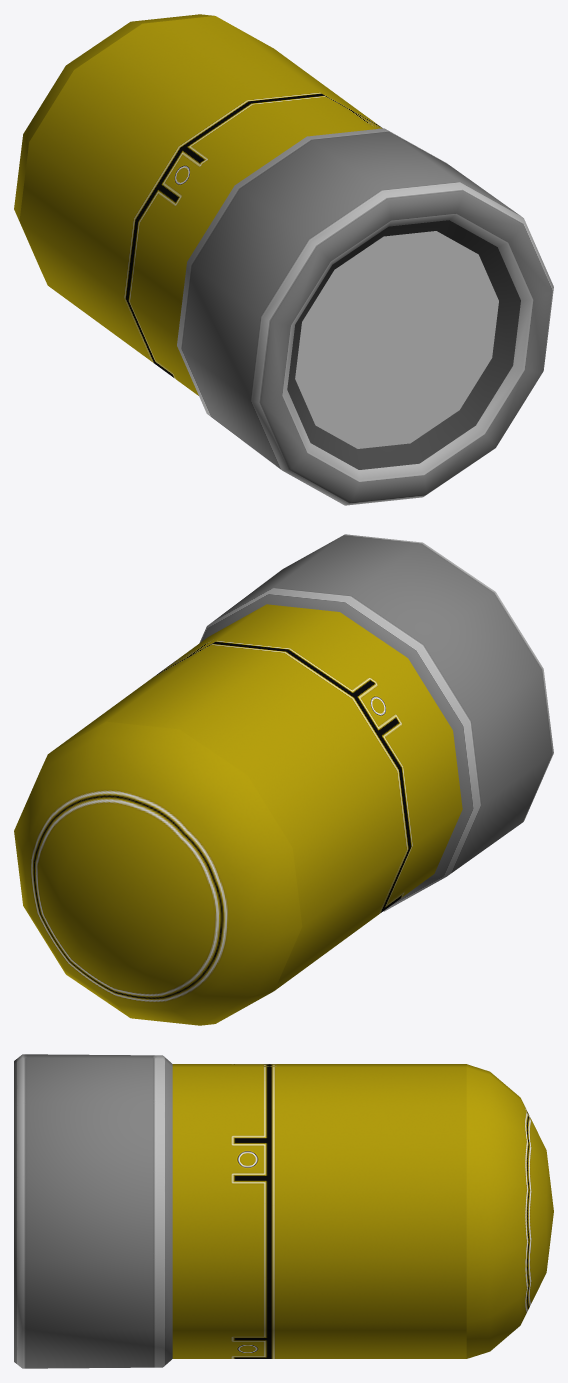
Rendered from TR_eyeC.fbx.
3 renders of one model, top to bottom at view 1: azimuth 30°, elevation 25°; view 2: azimuth 150°, elevation 25°; view 3: azimuth 270°, elevation 25°, orthographic. The views are drawn at different scales.
Visible parts, largest first — view 1: TR_eyeC; view 2: TR_eyeC; view 3: TR_eyeC.
Boxes of the visible parts, x1=… form: TR_eyeC: x1=14, y1=14, x2=553, y2=505; TR_eyeC: x1=14, y1=534, x2=553, y2=1025; TR_eyeC: x1=14, y1=1054, x2=553, y2=1368.
Size of the model in its own units: 6.65 by 6.65 by 11.25.
